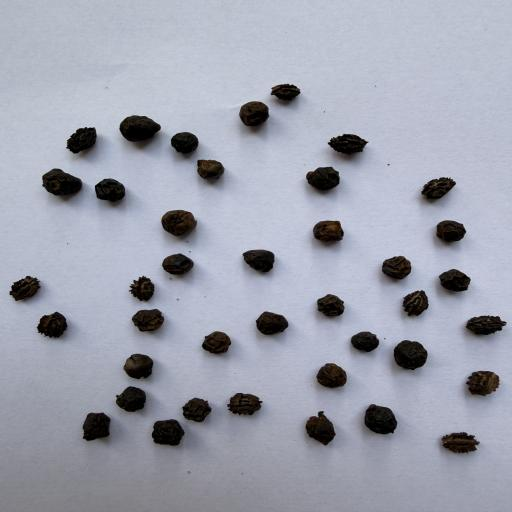Black_pepper: (386, 332, 447, 386), (357, 399, 414, 439), (303, 407, 349, 453), (36, 163, 86, 200), (114, 110, 165, 146), (192, 326, 242, 362), (302, 213, 354, 246), (128, 304, 174, 340), (292, 166, 353, 193), (430, 217, 474, 251), (90, 177, 136, 208), (313, 356, 356, 389), (174, 393, 218, 425), (78, 409, 116, 446), (254, 305, 296, 338), (190, 157, 238, 185), (237, 246, 281, 276), (160, 208, 201, 240), (120, 350, 162, 381), (377, 252, 421, 281), (114, 384, 159, 412), (151, 416, 187, 450), (159, 250, 203, 276), (236, 101, 274, 131), (169, 126, 207, 156), (437, 266, 472, 296), (315, 292, 351, 321), (350, 326, 381, 353)
papaya_seed: (308, 126, 381, 163), (453, 362, 504, 408), (458, 304, 506, 345), (441, 427, 492, 464), (57, 119, 108, 155), (399, 284, 437, 324), (218, 387, 265, 419), (418, 170, 460, 204), (7, 274, 52, 305), (126, 272, 161, 302), (34, 311, 70, 340), (272, 83, 302, 105)
